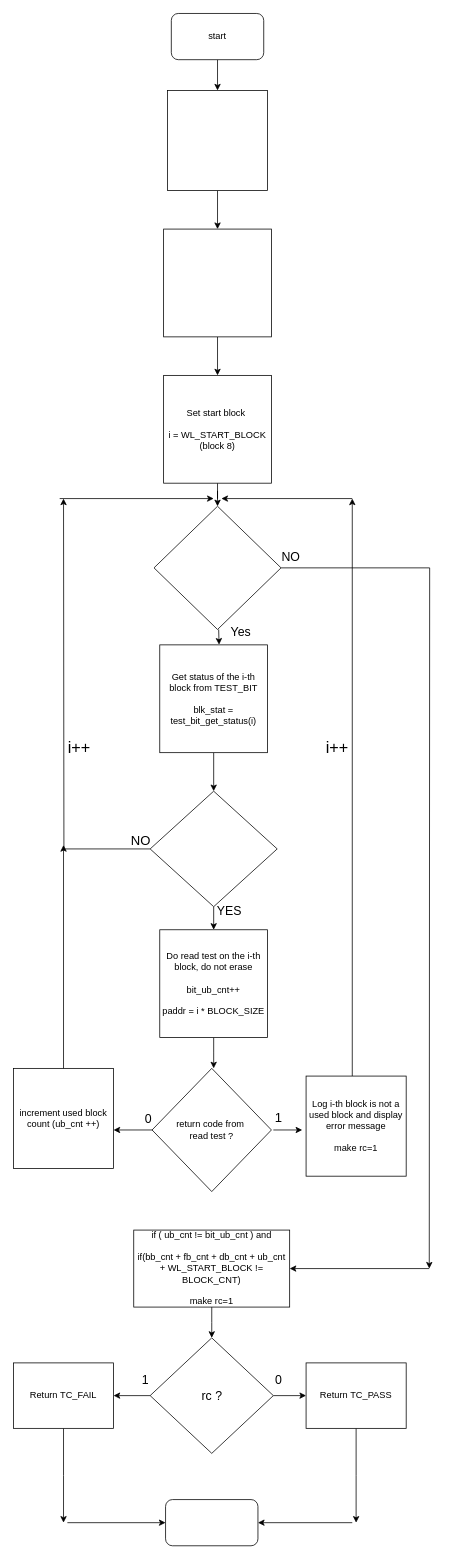
Some shapes in this 450 by 1559 pixel diagram are drawn without their labels. Here are the shapes that lost their labels. From the top down, the centre of each, then its label:
the point at 217,140: Save current BIT to flash from ltffs.c fs_save_bit()
the point at 217,282: Get BIT from flash and load it to TEST_BIT array in test_flash.c get_test_bbt()
the point at 217,567: i < BLOCK_CNT (1024) ?
the point at 213,848: blk_stat == BLK_USED ?
the point at 211,1522: Stop
